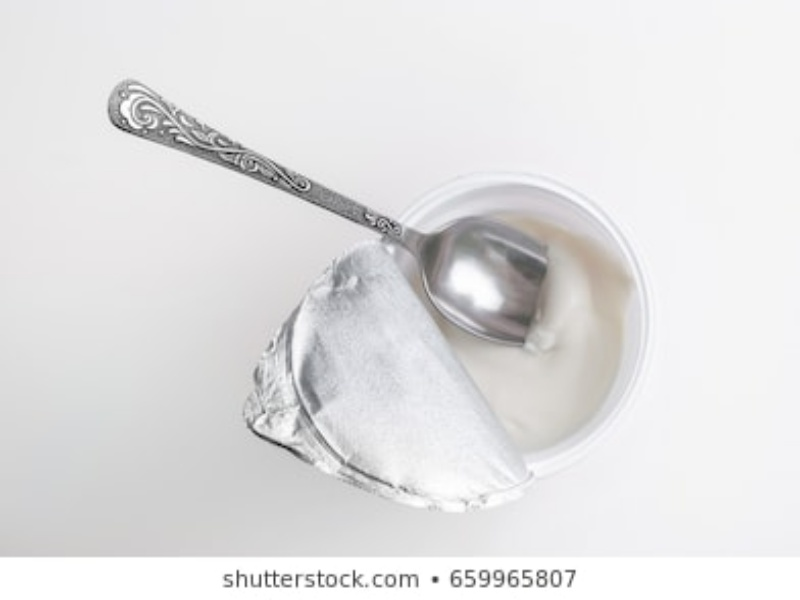yogurt-cup: (370, 171, 655, 476)
